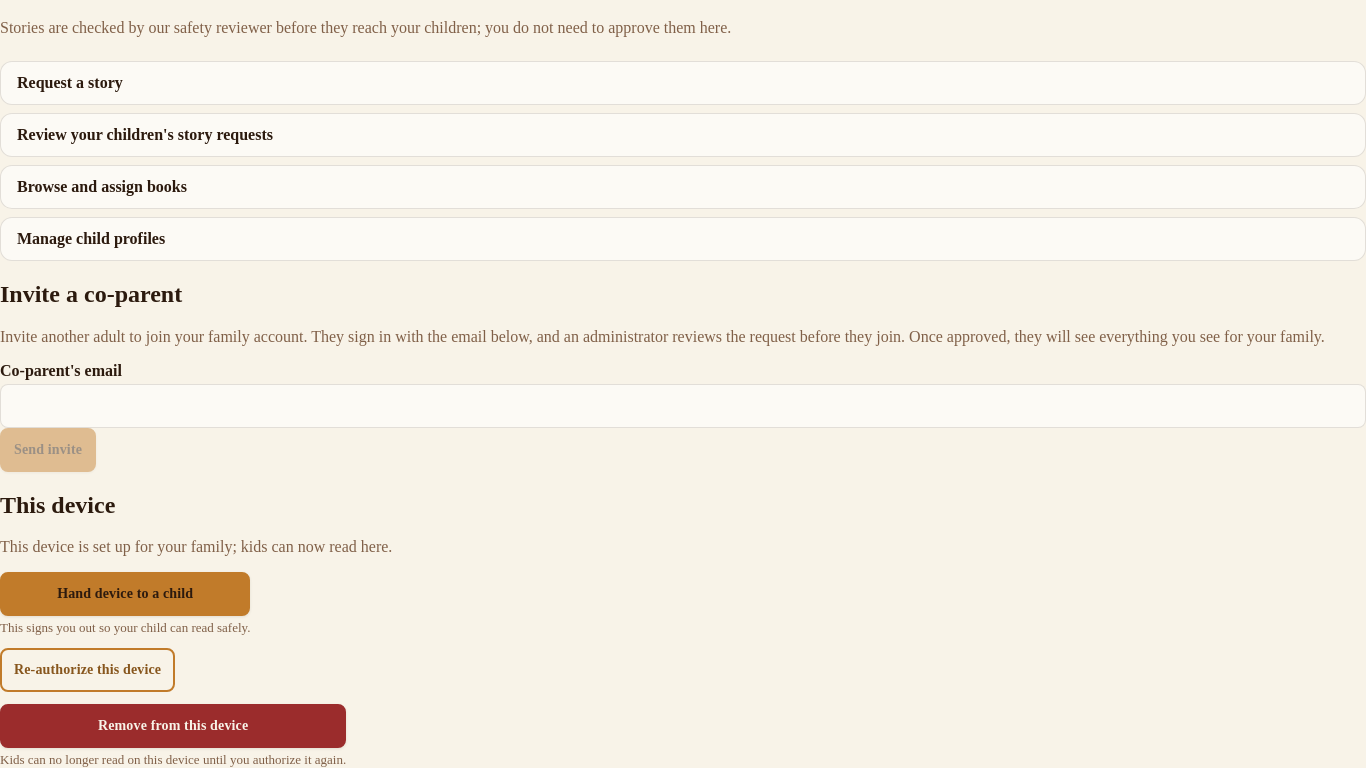
ConsolePage device authorization (ADR-014 Phase 3) › asks for confirmation before removing the device grant
(page scrolled)
Click the button "Remove from this device".
click(173, 726)  # box [0, 704, 346, 748]
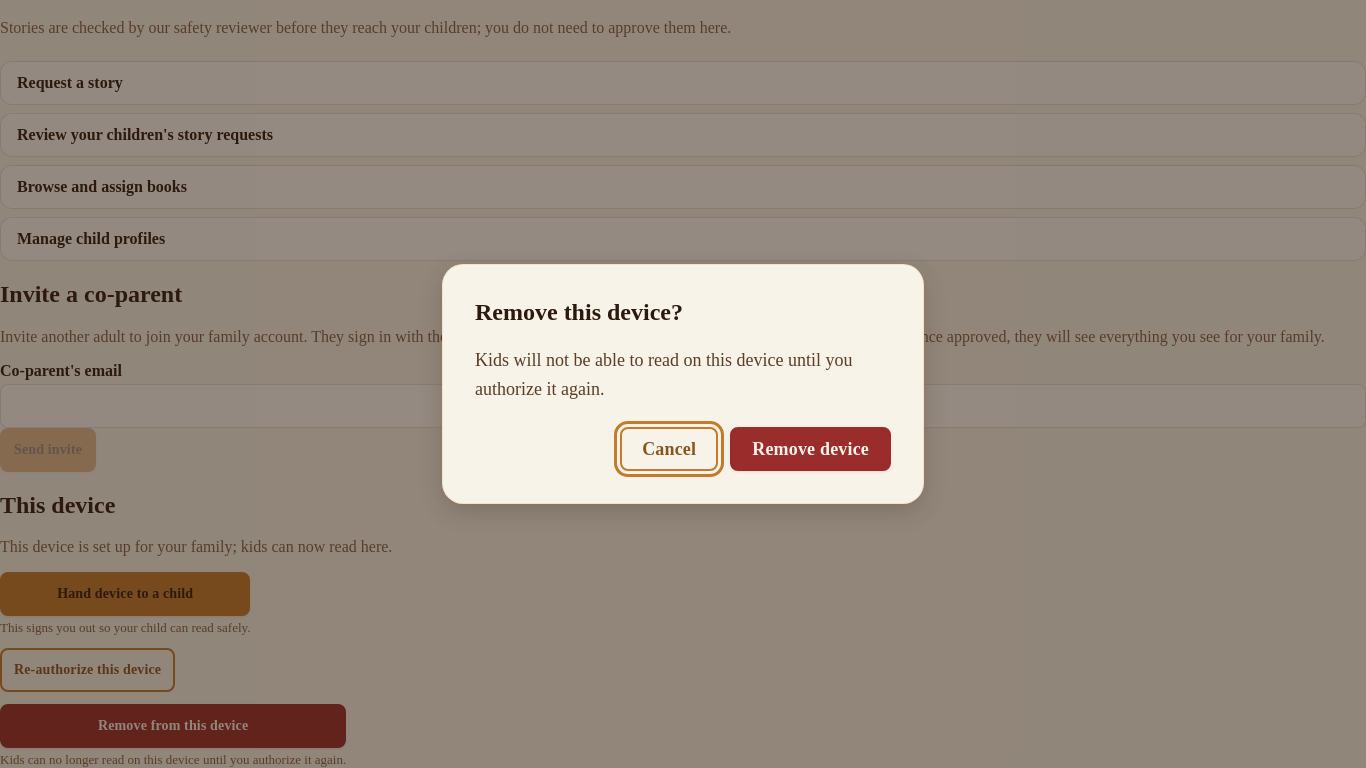
Check: the dialog "Remove this device" is shown, box [443, 265, 923, 503]
